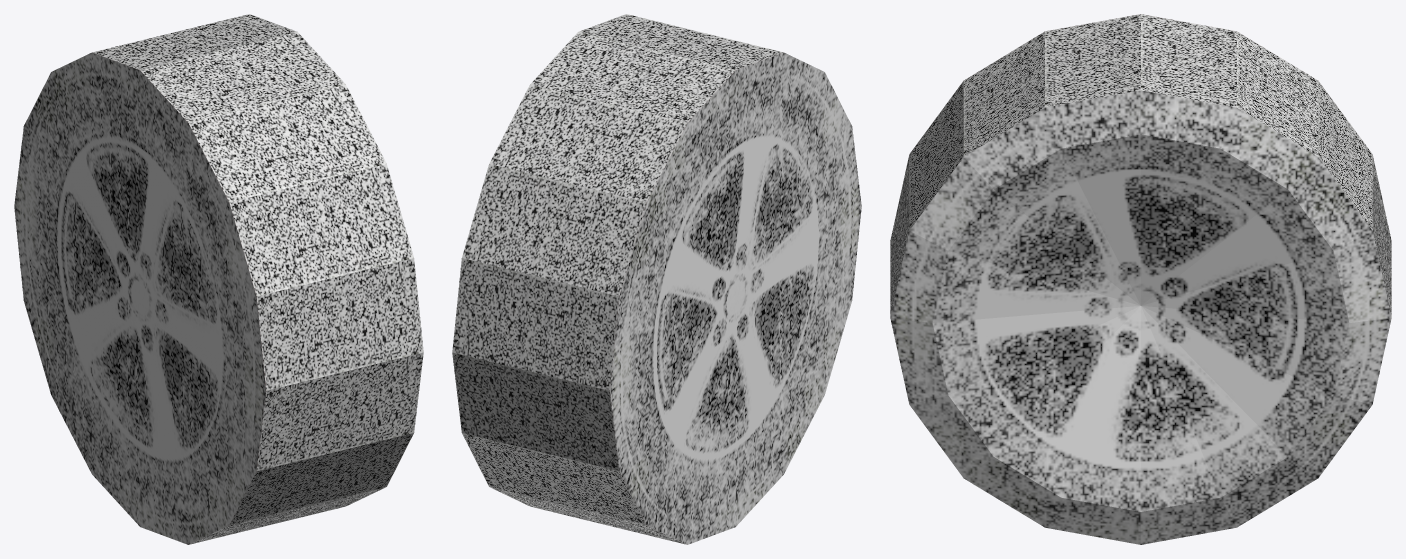
The model's file is vehicletire_wtf.obj.
3 views of the same model, side by side, from view 1: azimuth 30°, elevation 25°; view 2: azimuth 150°, elevation 25°; view 3: azimuth 270°, elevation 25° (orthographic).
Parts seen in each view (by area): view 1: group2; view 2: group2; view 3: group2.
Part boxes in pixels (bbox=[...]): group2: bbox=[14, 14, 423, 544]; group2: bbox=[452, 14, 861, 544]; group2: bbox=[890, 14, 1391, 544].
Size of the model in its own units: 255 by 660 by 660.
